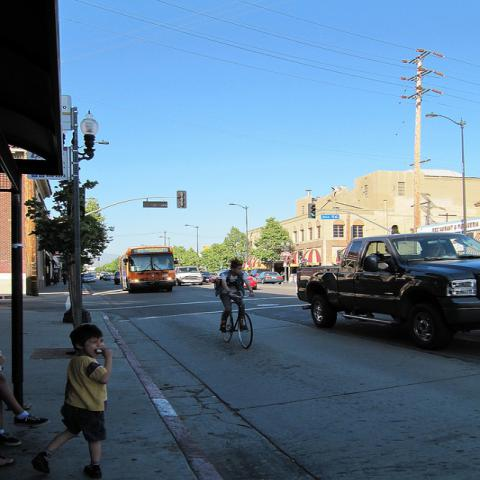bus: (118, 247, 180, 293)
car: (214, 271, 258, 289), (174, 266, 203, 284), (253, 272, 284, 284), (198, 271, 214, 282), (251, 269, 272, 276), (83, 274, 96, 282), (101, 274, 115, 281), (114, 271, 120, 285), (100, 272, 110, 280), (210, 272, 219, 277)
truck: (292, 228, 479, 349)
